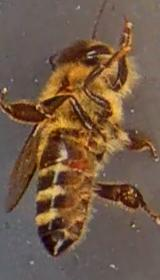varroa_mite: (56, 154, 90, 172)
